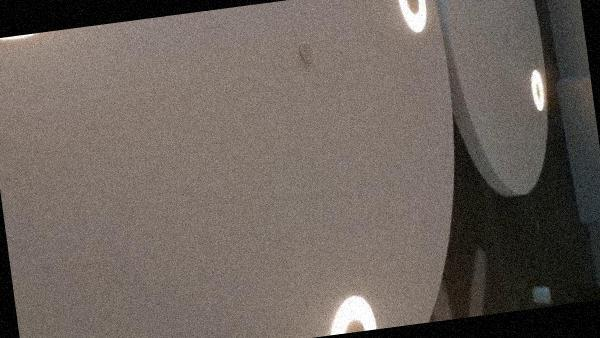light_on: (317, 279, 380, 336), (520, 59, 551, 119), (390, 0, 434, 41), (0, 32, 50, 48)
